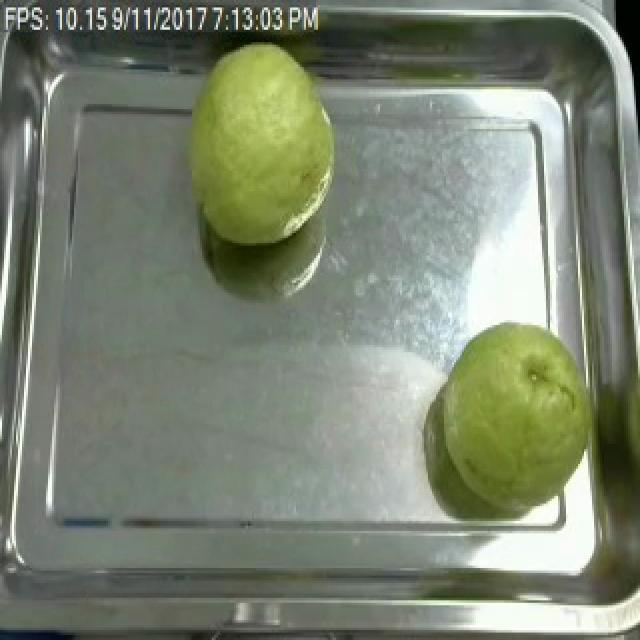Fruit: (418, 308, 606, 521), (176, 30, 346, 255)
